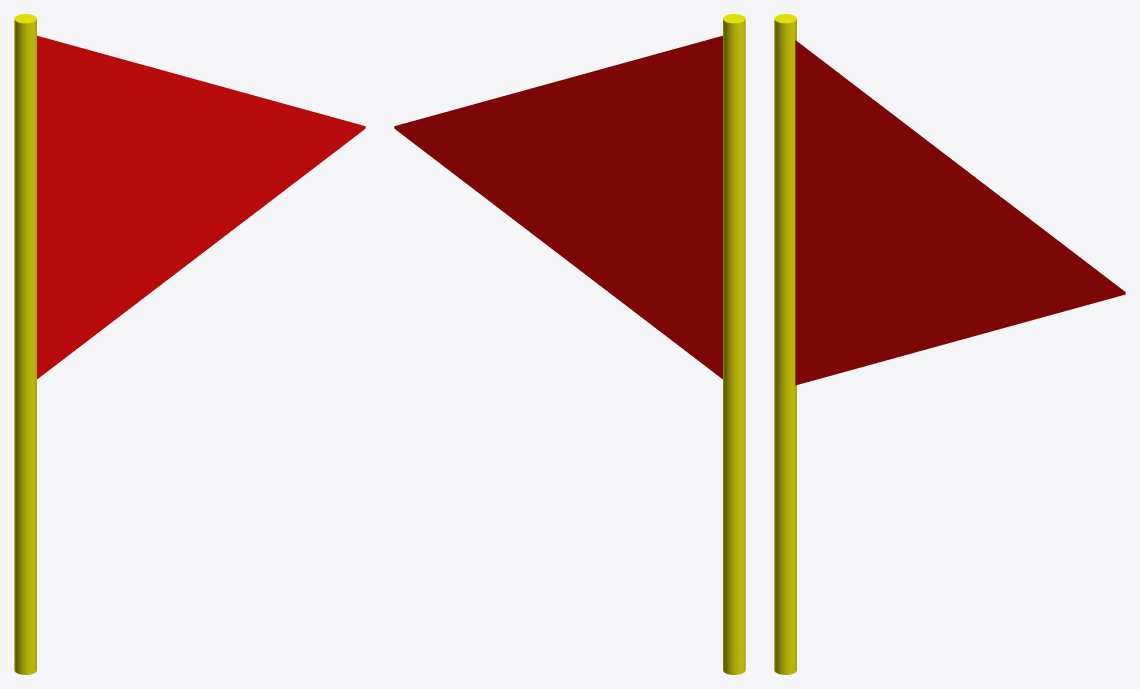
The model's file is door.obj.
The picture shows the model from 3 angles, left to right: view 1: azimuth 30°, elevation 25°; view 2: azimuth 150°, elevation 25°; view 3: azimuth 330°, elevation 25°; orthographic projection.
Visible parts, largest first — view 1: 円柱; view 2: 円柱; view 3: 円柱.
Part boxes in pixels (x1=…): 円柱: x1=14, y1=14, x2=365, y2=674; 円柱: x1=394, y1=14, x2=745, y2=674; 円柱: x1=774, y1=14, x2=1125, y2=674.
Size of the model in its own units: 1.11 by 1.98 by 0.062.
2 materials, 2 textured.
